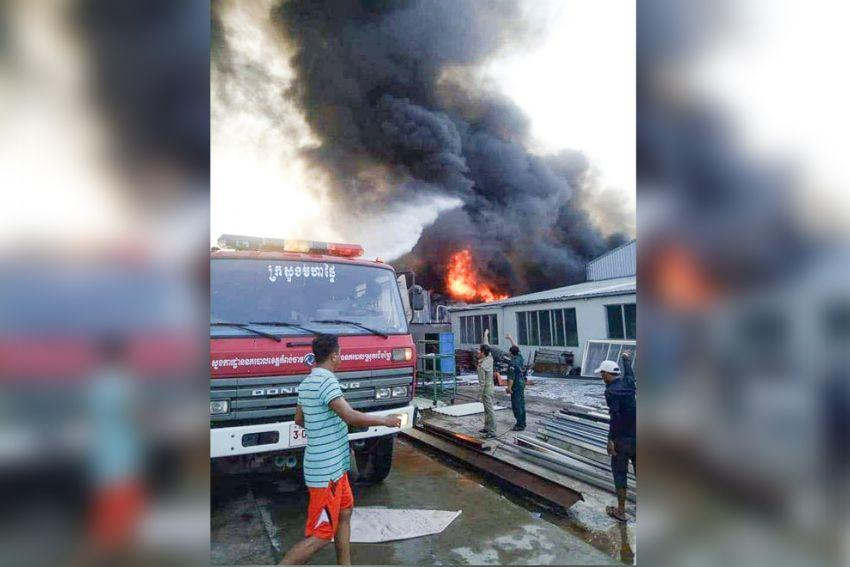Fire: (441, 244, 511, 315)
